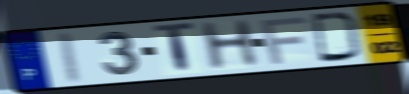3: (97, 29, 141, 79)
D: (309, 11, 365, 64)
F: (259, 15, 309, 66)
H: (197, 18, 262, 73)
I: (59, 30, 84, 85)
T: (151, 21, 197, 76)
